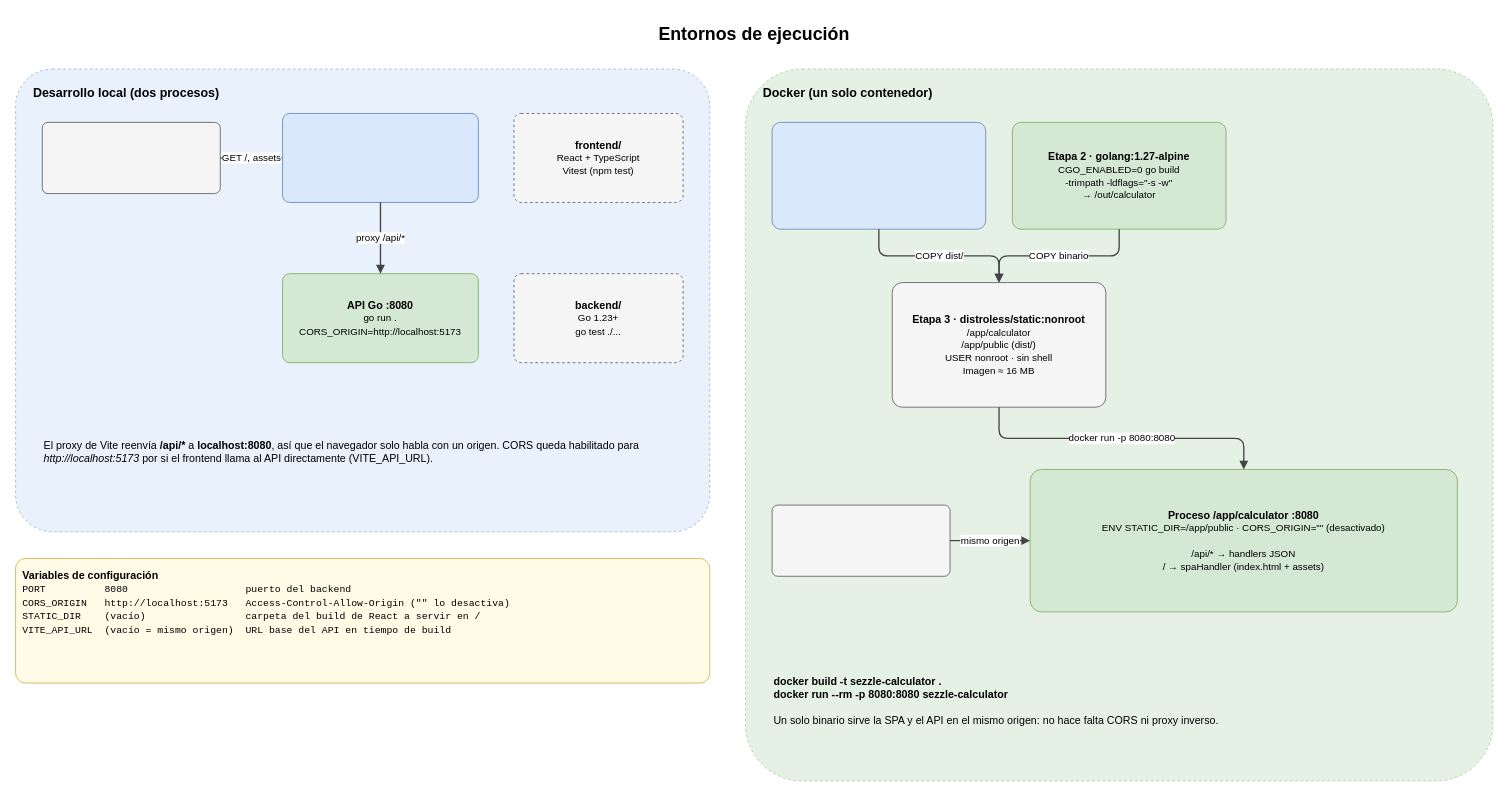
Image size: 1509x797. Some labels were removed from this diagram. The shapes that lost their labels are listed below. From the top down, each one's box as (x1, y1, x2, y2) in pixels, then its label:
(41, 121, 220, 194): Navegador http://localhost:5173
(282, 113, 478, 202): Vite dev server :5173 npm run dev HMR · sirve src/ transpilado
(771, 121, 986, 229): Etapa 1 · node:22-alpine npm ci npm run build → dist/ (HTML, JS, CSS)
(771, 504, 950, 576): Navegador http://localhost:8080
